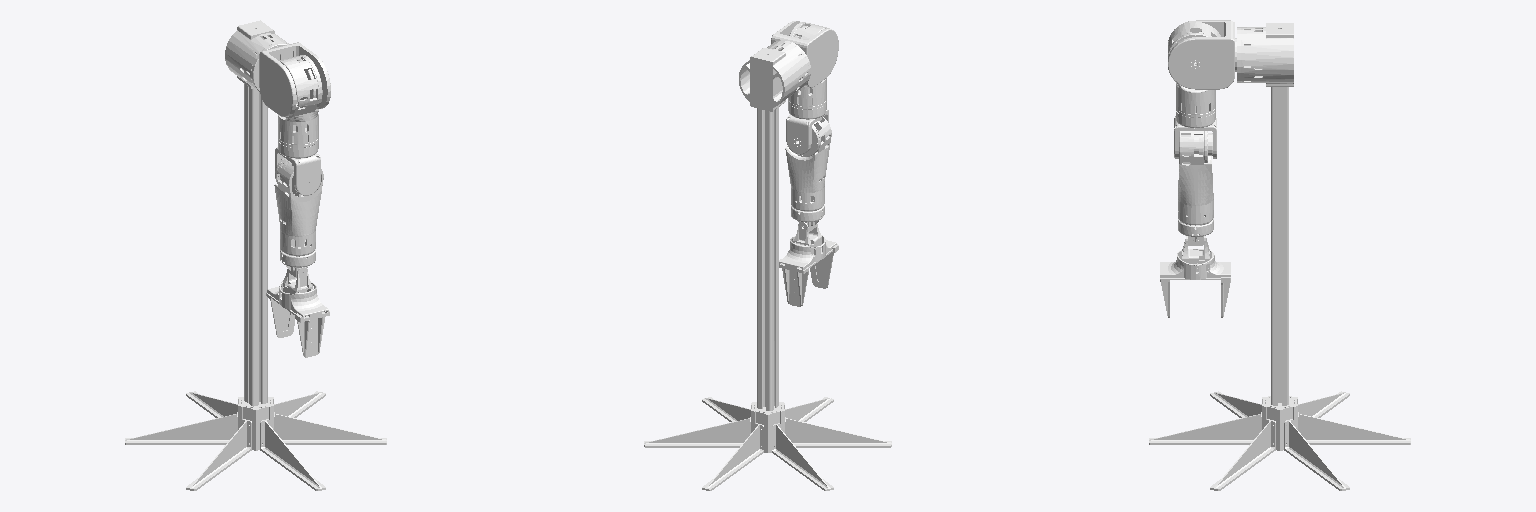
robot.urdf — arm_ver_3:
<?xml version='1.0' encoding='UTF-8'?>
<robot name="arm_ver_3">

    <material name="white">
        <color rgba="1.0 1.0 1.0 1.0"/>
    </material>

    <link name="base">
        <inertial>
            <origin xyz="6.7459e-09 -0.0131 0.5124" rpy="0 0 0" />
            <mass value="17.337" />
            <inertia ixx="3.248" iyy="3.238" izz="0.100" ixy="0" iyz="0.099" ixz="0" />
        </inertial>
        <visual name="base_visual">
            <origin xyz="0 0 0" rpy="0 0 0" />
            <geometry>
                <mesh filename="package://final_project/meshes/base.stl" scale="0.001 0.001 0.001" />
            </geometry>
            <material name="white"/>
        </visual>
        <collision name="base_collision">
            <origin xyz="0 0 0" rpy="0 0 0" />
            <geometry>
                <mesh filename="package://final_project/meshes/base.stl" scale="0.001 0.001 0.001" />
            </geometry>
        </collision>
    </link>

    <link name="joint1">
        <inertial>
            <origin xyz="-0.0001 -0.0027 -0.0466" rpy="0 0 0" />
            <mass value="3.421" />
            <inertia ixx="0.010" iyy="0.012" izz="0.009" ixy="0" iyz="0.0004" ixz="0" />
        </inertial>
        <visual name="joint1_visual">
            <origin xyz="1.77e-17 0.95 0.108" rpy="1.5707 0 0" />
            <geometry>
                <mesh filename="package://final_project/meshes/joint1.stl" scale="0.001 0.001 0.001" />
            </geometry>
            <material name="white"/>
        </visual>
        <collision name="joint1_collision">
            <origin xyz="1.77e-17 0.95 0.108" rpy="1.5707 0 0" />
            <geometry>
                <mesh filename="package://final_project/meshes/joint1.stl" scale="0.001 0.001 0.001" />
            </geometry>
        </collision>
    </link>

    <link name="joint2">
        <inertial>
            <origin xyz="-0.051 0 -0.037" rpy="0 0 0" />
            <mass value="5.966" />
            <inertia ixx="0.008" iyy="0.026" izz="0.028" ixy="0" iyz="0" ixz="-0.0006" />
        </inertial>
        <visual name="joint2_visual">
            <origin xyz="-0.949 -0.186 -0.039" rpy="3.1415 -1.5707 0" />
            <geometry>
                <mesh filename="package://final_project/meshes/joint2.stl" scale="0.001 0.001 0.001" />
            </geometry>
            <material name="white"/>
        </visual>
        <collision name="joint2_collision">
            <origin xyz="-0.949 -0.186 -0.039" rpy="3.1415 -1.5707 0" />
            <geometry>
                <mesh filename="package://final_project/meshes/joint2.stl" scale="0.001 0.001 0.001" />
            </geometry>
        </collision>
    </link>

    <link name="joint3">
        <inertial>
            <origin xyz="0 0.0003 0.038" rpy="0 0 0" />
            <mass value="1.265" />
            <inertia ixx="0.0027" iyy="0.0014" izz="0.0020" ixy="0" iyz="-1.2e-05" ixz="0" />
        </inertial>
        <visual name="joint3_visual">
            <origin xyz="6.3e-17 -0.186 0.798" rpy="-3.1415 0 0" />
            <geometry>
                <mesh filename="package://final_project/meshes/joint3.stl" scale="0.001 0.001 0.001" />
            </geometry>
            <material name="white"/>
        </visual>
        <collision name="joint3_collision">
            <origin xyz="6.3e-17 -0.186 0.798" rpy="-3.1415 0 0" />
            <geometry>
                <mesh filename="package://final_project/meshes/joint3.stl" scale="0.001 0.001 0.001" />
            </geometry>
        </collision>
    </link>

    <link name="joint4">
        <inertial>
            <origin xyz="0.0005 0.070 -0.037" rpy="0 0 0" />
            <mass value="4.552" />
            <inertia ixx="0.020" iyy="0.004" izz="0.021" ixy="-0.0001" iyz="0.0002" ixz="0" />
        </inertial>
        <visual name="joint4_visual">
            <origin xyz="8.0e-16 0.73 0.148" rpy="1.5707 0 0" />
            <geometry>
                <mesh filename="package://final_project/meshes/joint4.stl" scale="0.001 0.001 0.001" />
            </geometry>
            <material name="white"/>
        </visual>
        <collision name="joint4_collision">
            <origin xyz="8.0e-16 0.73 0.148" rpy="1.5707 0 0" />
            <geometry>
                <mesh filename="package://final_project/meshes/joint4.stl" scale="0.001 0.001 0.001" />
            </geometry>
        </collision>
    </link>

    <link name="joint5">
        <inertial>
            <origin xyz="0 -0.0001 0.029" rpy="0 0 0" />
            <mass value="1.165" />
            <inertia ixx="0.0006" iyy="0.0006" izz="0.0006" ixy="0" iyz="4.3e-06" ixz="0" />
        </inertial>
        <visual name="joint5_visual">
            <origin xyz="1.1e-14 -0.186 0.558" rpy="3.1415 0 0" />
            <geometry>
                <mesh filename="package://final_project/meshes/joint5.stl" scale="0.001 0.001 0.001" />
            </geometry>
            <material name="white"/>
        </visual>
        <collision name="joint5_collision">
            <origin xyz="1.1e-14 -0.186 0.558" rpy="3.1415 0 0" />
            <geometry>
                <mesh filename="package://final_project/meshes/joint5.stl" scale="0.001 0.001 0.001" />
            </geometry>
        </collision>
    </link>

    <link name="endpoint">
        <inertial>
            <origin xyz="0 -0.079 -0.016" rpy="0 0 0" />
            <mass value="1.889" />
            <inertia ixx="0.006" iyy="0.004" izz="0.002" ixy="0" iyz="4.3e-06" ixz="6.3e-05" />
        </inertial>
        <visual name="endpoint_visual">
            <origin xyz="1.0e-15 -0.500 -0.206" rpy="-1.5707 0 0" />
            <geometry>
                <mesh filename="package://final_project/meshes/endpoint.stl" scale="0.001 0.001 0.001" />
            </geometry>
            <material name="white"/>
        </visual>
        <collision name="endpoint_collision">
            <origin xyz="1.0e-15 -0.500 -0.206" rpy="-1.5707 0 0" />
            <geometry>
                <mesh filename="package://final_project/meshes/endpoint.stl" scale="0.001 0.001 0.001" />
            </geometry>
        </collision>
    </link>

    <joint name="joint_7" type="revolute">
        <origin xyz="0.0 -0.10875 0.95" rpy="-1.5707 0 0" />
        <parent link="base" />
        <child link="joint1" />
        <axis xyz="0 0 1" />
        <limit lower="-3.1416" upper="1.3963" effort="10.0" velocity="0.35" />
    </joint>

    <joint name="joint_8" type="revolute">
        <origin xyz="0.039625 0 -0.0778" rpy="-1.5707 0 -1.5707" />
        <parent link="joint1" />
        <child link="joint2" />
        <axis xyz="0 0 1" />
        <limit lower="-2.0944" upper="0.3491" effort="10.0" velocity="0.35" />
    </joint>

    <joint name="joint_9" type="revolute">
        <origin xyz="-0.15125 0 -0.039625" rpy="0 -1.5707 0" />
        <parent link="joint2" />
        <child link="joint3" />
        <axis xyz="0 0 1" />
        <limit lower="-3.1416" upper="3.1416" effort="10.0" velocity="1.0" />
    </joint>

    <joint name="joint_10" type="revolute">
        <origin xyz="0 -0.038 0.06875" rpy="1.5707 0 0" />
        <parent link="joint3" />
        <child link="joint4" />
        <axis xyz="0 0 1" />
        <limit lower="-2.0944" upper="0.1745" effort="10.0" velocity="1.0" />
    </joint>

    <joint name="joint_11" type="revolute">
        <origin xyz="0 0.172 -0.038" rpy="-1.5707 0 0" />
        <parent link="joint4" />
        <child link="joint5" />
        <axis xyz="0 0 1" />
        <limit lower="-3.1416" upper="3.1416" effort="10.0" velocity="3.0" />
    </joint>

    <joint name="joint_12" type="revolute">
        <origin xyz="0 0.0169 0.058" rpy="-1.5707 0 0" />
        <parent link="joint5" />
        <child link="endpoint" />
        <axis xyz="0 0 1" />
        <limit lower="-1.7453" upper="1.7453" effort="10.0" velocity="3.0" />
    </joint>
</robot>

--- Render facts (derived) ---
The picture shows the robot from 3 angles, left to right: view 1: azimuth 30°, elevation 25°; view 2: azimuth 150°, elevation 25°; view 3: azimuth 270°, elevation 25°; orthographic projection.
Robot: arm_ver_3 — 7 links, 6 joints (6 revolute); root link base; default pose: every joint at zero.
Visible links, largest first — view 1: base, endpoint, joint2, joint4, joint1, joint3; view 2: base, endpoint, joint4, joint1, joint2, joint3; view 3: base, joint1, joint4, endpoint, joint2, joint5.
Boxes of the visible links, x1,y1,x2,y2 form: base: [125, 20, 386, 490]; endpoint: [266, 267, 329, 357]; joint2: [278, 55, 322, 158]; joint4: [274, 158, 323, 255]; joint1: [259, 42, 330, 116]; joint3: [275, 147, 320, 195]; base: [644, 40, 891, 490]; endpoint: [779, 222, 838, 306]; joint4: [785, 117, 831, 210]; joint1: [771, 21, 838, 87]; joint2: [788, 22, 829, 119]; joint3: [786, 109, 828, 154]; base: [1149, 23, 1410, 490]; joint1: [1168, 20, 1234, 89]; joint4: [1178, 131, 1213, 225]; endpoint: [1160, 236, 1230, 317]; joint2: [1168, 22, 1220, 127]; joint5: [1178, 218, 1213, 245].
Bounding box of the posed robot: 0.5155 × 0.5836 × 1.01 m (x, y, z).
Meshes: 7 distinct files referenced, 7 mesh visuals loaded (7 binary STL).
